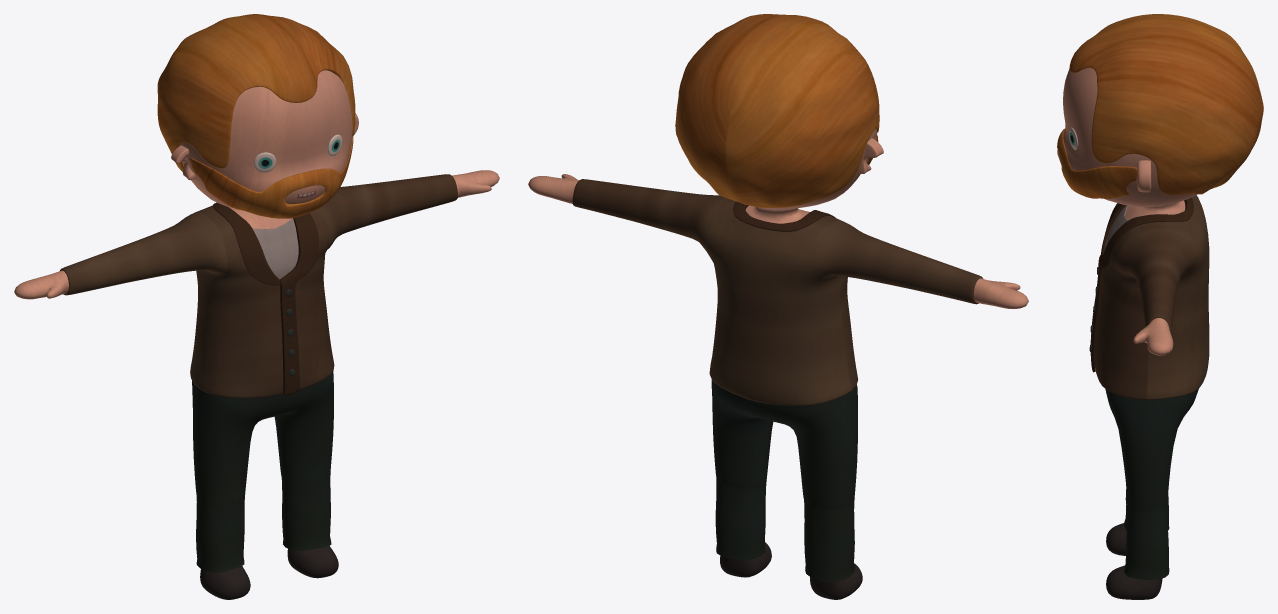
Rendered from VanGogh_Model.fbx.
The picture shows the model from 3 angles, left to right: view 1: azimuth 30°, elevation 25°; view 2: azimuth 150°, elevation 25°; view 3: azimuth 270°, elevation 25°; orthographic projection. The views are drawn at different scales.
Parts seen in each view (by area): view 1: Coat, Pants, Hair, Body, Collar, Beard, Shirt, Shoe_R, Shoe_L; view 2: Coat, Hair, Pants, Body, Collar, Shoe_R, Shoe_L; view 3: Hair, Coat, Pants, Body, Beard, Collar, Shoe_L, Shoe_R, Ear_L, Shirt.
Boxes of the visible parts, box(x1,y1,x2,y2) form: Coat: box(60, 174, 457, 398); Pants: box(192, 371, 333, 573); Hair: box(157, 14, 355, 172); Body: box(14, 70, 499, 299); Collar: box(213, 202, 318, 395); Beard: box(189, 137, 353, 218); Shirt: box(252, 218, 298, 279); Shoe_R: box(200, 566, 250, 599); Shoe_L: box(287, 546, 338, 578); Coat: box(572, 179, 983, 405); Hair: box(675, 14, 879, 207); Pants: box(711, 379, 857, 582); Body: box(528, 128, 1028, 308); Collar: box(733, 201, 835, 231); Shoe_R: box(810, 563, 862, 599); Shoe_L: box(720, 542, 771, 577); Hair: box(1069, 14, 1263, 195); Coat: box(1095, 195, 1209, 400); Pants: box(1105, 389, 1198, 580); Body: box(1057, 67, 1197, 355); Beard: box(1057, 128, 1137, 198); Collar: box(1090, 197, 1193, 372); Shoe_L: box(1106, 565, 1162, 599); Shoe_R: box(1106, 523, 1126, 555); Ear_L: box(1137, 160, 1151, 192); Shirt: box(1105, 205, 1128, 248).
Size of the model in its own units: 15.78 by 17.03 by 5.82.
